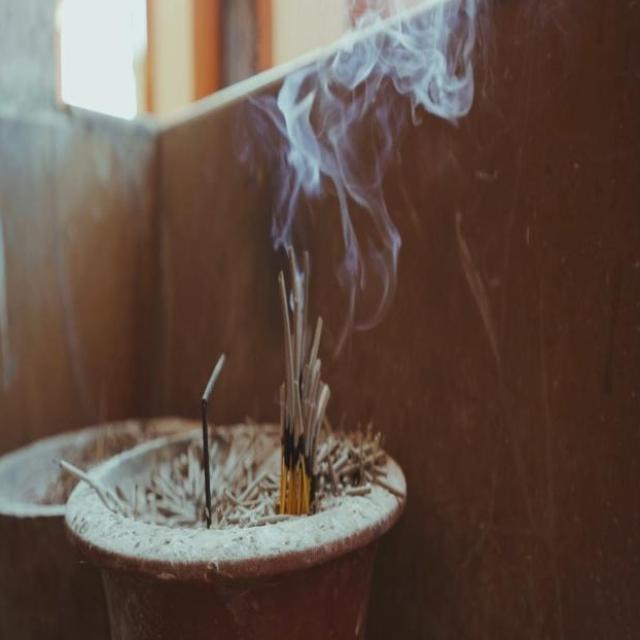fire: (229, 0, 488, 335)
